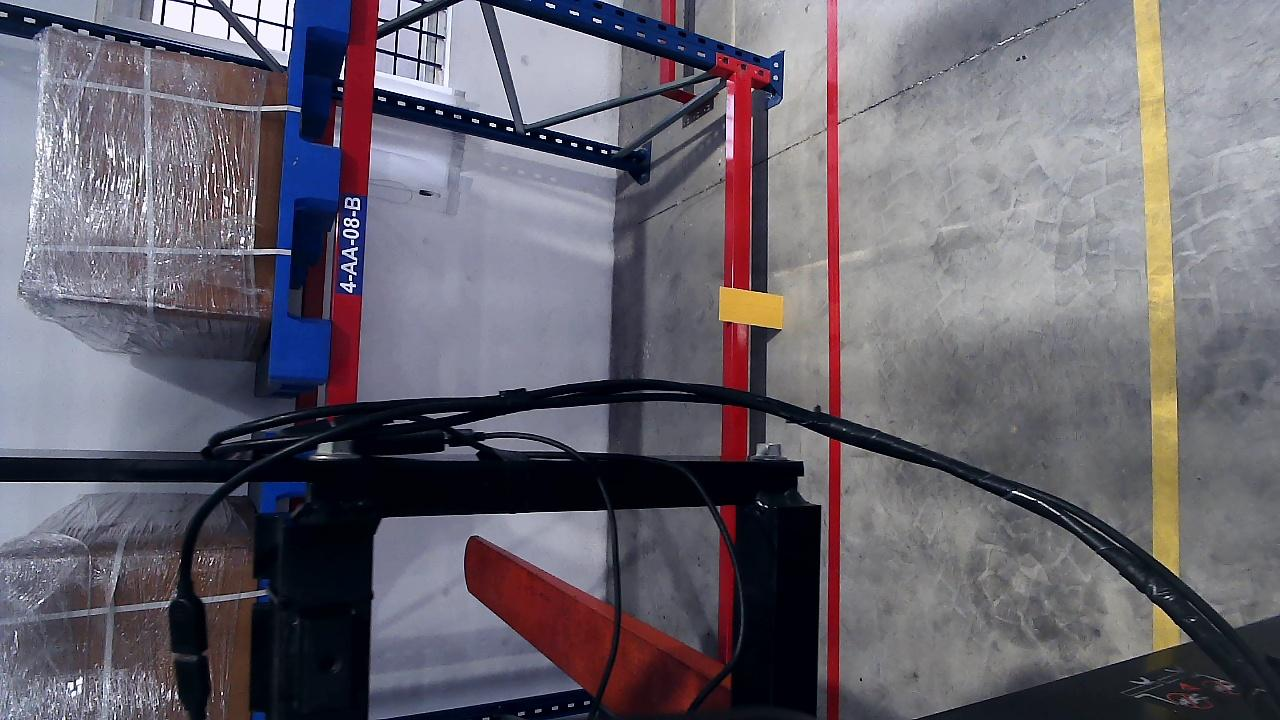h_rack: (324, 0, 382, 393), (727, 75, 757, 392)
orange_strip: (719, 287, 784, 329)
red_line: (823, 0, 842, 720)
small_pallet: (268, 0, 349, 377)
yellow_line: (1135, 1, 1181, 583)
